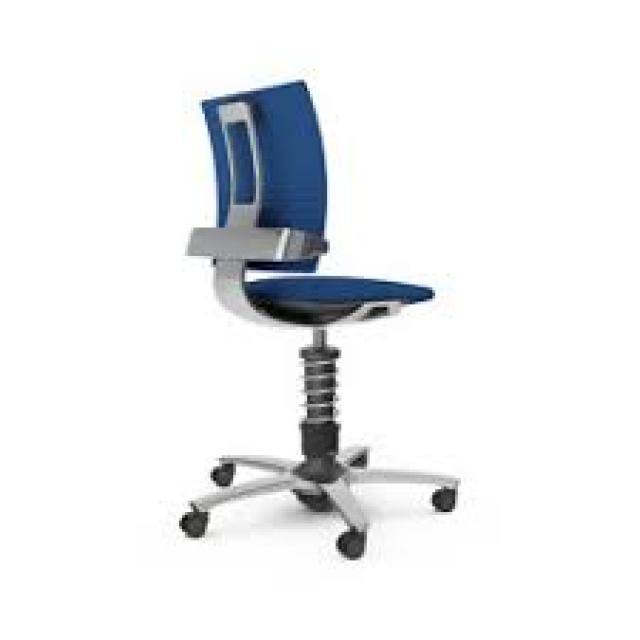chair: (108, 64, 513, 616)
